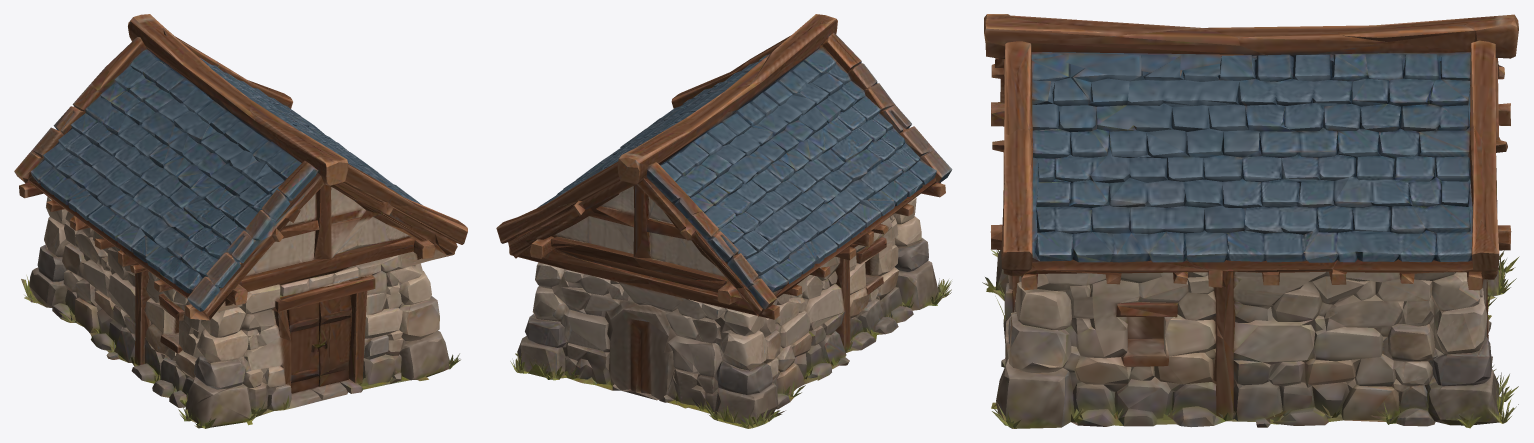
Rendered from storage.glb.
The picture shows the model from 3 angles, left to right: view 1: azimuth 30°, elevation 25°; view 2: azimuth 150°, elevation 25°; view 3: azimuth 270°, elevation 25°; orthographic projection. The views are drawn at different scales.
Bounding box in the file's own units: 1.51 × 1.28 × 1.9.
1 material, 1 textured.
